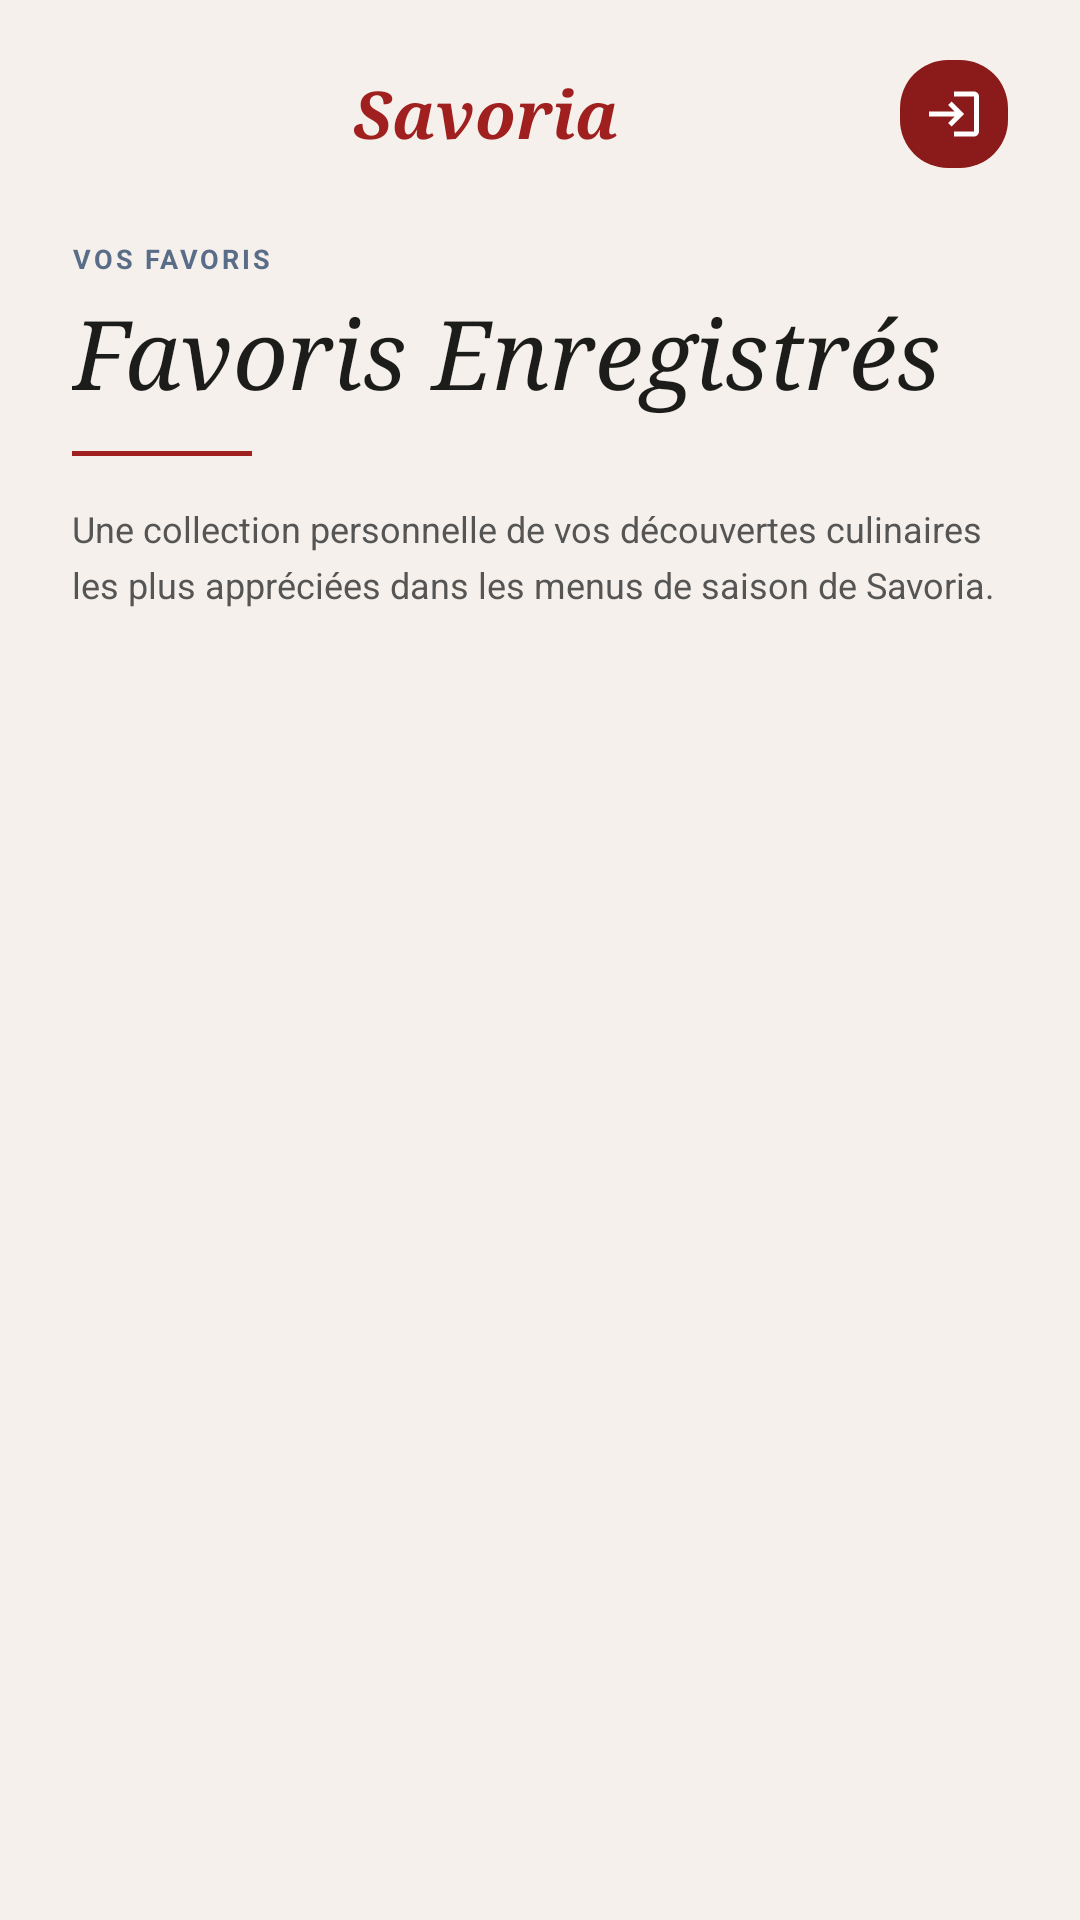

Icon bounding boxes for this 1080px x 1920px phone screenshot, format bbox(x1, y1, x2, y2):
Connexion admin: bbox(900, 60, 1008, 168)
